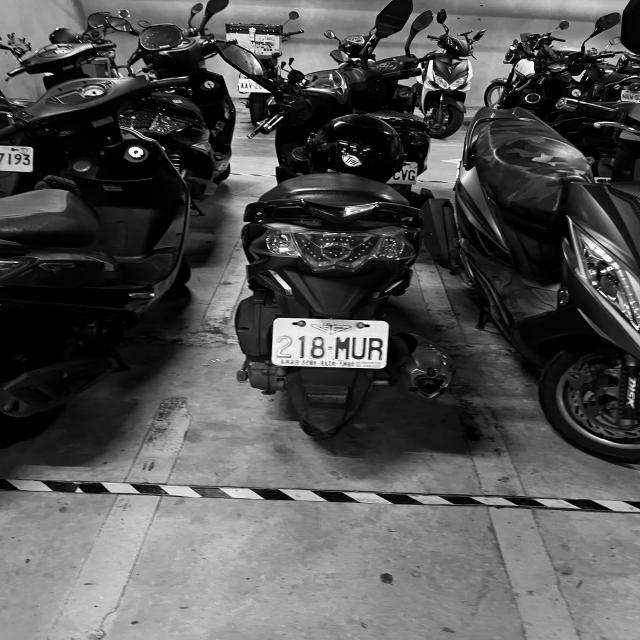-: (327, 345, 333, 350)
1: (295, 334, 309, 358), (7, 152, 13, 166)
2: (276, 334, 292, 358)
3: (23, 154, 31, 166)
8: (309, 335, 325, 359)
9: (14, 154, 22, 165)
A: (240, 82, 244, 89), (245, 82, 248, 89)
G: (408, 170, 416, 180)
M: (333, 336, 349, 360)
R: (369, 336, 384, 359)
U: (351, 336, 366, 359)
V: (400, 169, 408, 180)
plate: (276, 318, 388, 369)
